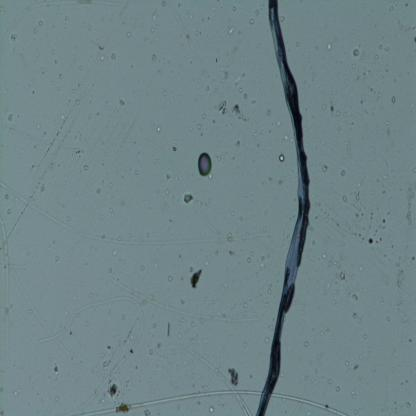Air bubble: (195, 151, 213, 179)
Background material: (394, 266, 410, 308), (404, 178, 414, 230), (230, 102, 249, 125), (107, 380, 123, 400), (189, 268, 204, 288), (218, 96, 229, 116), (230, 364, 239, 387), (385, 128, 394, 150), (124, 326, 135, 344), (181, 191, 195, 205), (116, 402, 130, 414), (99, 357, 111, 371), (354, 190, 363, 208), (250, 130, 260, 146), (72, 147, 84, 156), (117, 95, 125, 107), (10, 388, 22, 396), (154, 122, 162, 134), (216, 152, 225, 162), (109, 247, 119, 256), (125, 378, 133, 388), (278, 152, 286, 162), (76, 96, 84, 106), (109, 50, 116, 61), (62, 214, 71, 222), (352, 311, 360, 320), (97, 43, 105, 52), (227, 27, 237, 34), (233, 139, 240, 149), (341, 270, 347, 281), (326, 40, 332, 51), (56, 128, 62, 139), (31, 26, 39, 34), (38, 66, 46, 74), (282, 132, 290, 140), (188, 124, 196, 132), (167, 321, 171, 337), (350, 294, 358, 302), (81, 164, 89, 172), (364, 68, 372, 76), (352, 48, 360, 56), (59, 112, 66, 121), (64, 309, 71, 318), (228, 232, 234, 242), (164, 170, 170, 180), (203, 294, 209, 304), (111, 206, 116, 218), (150, 54, 158, 61), (321, 165, 328, 173), (279, 14, 286, 22), (104, 99, 111, 107), (249, 17, 256, 25), (354, 180, 361, 188), (304, 374, 311, 382), (367, 236, 374, 244), (4, 208, 12, 215), (318, 350, 324, 359), (351, 391, 357, 400), (320, 251, 326, 260), (168, 146, 177, 152), (1, 88, 10, 94), (201, 111, 207, 120), (161, 88, 167, 97), (15, 226, 21, 235), (135, 169, 141, 178), (342, 194, 348, 203), (303, 341, 310, 348), (144, 409, 151, 416), (40, 184, 46, 192), (294, 40, 302, 46), (335, 108, 341, 116), (275, 117, 281, 125), (204, 84, 210, 92), (6, 114, 14, 120), (122, 17, 128, 25), (208, 172, 214, 180), (10, 34, 18, 40), (340, 170, 348, 176), (198, 27, 204, 35), (86, 23, 92, 31), (186, 32, 192, 40), (152, 158, 160, 164), (405, 401, 411, 409), (52, 238, 58, 246), (241, 70, 247, 78), (228, 250, 236, 256), (178, 318, 184, 326), (188, 322, 196, 328), (148, 348, 154, 356), (96, 188, 102, 196), (108, 266, 113, 275), (31, 77, 36, 86), (330, 104, 335, 113), (88, 111, 93, 120), (224, 71, 229, 80), (379, 296, 384, 305), (220, 63, 225, 72), (100, 232, 107, 238), (126, 32, 132, 39), (54, 368, 61, 374), (310, 253, 316, 260), (309, 67, 316, 73), (332, 300, 339, 306), (334, 386, 341, 392), (352, 363, 359, 369), (221, 282, 228, 288), (380, 34, 386, 41), (116, 234, 121, 242), (27, 306, 32, 314), (313, 212, 318, 220), (382, 174, 387, 182), (209, 404, 214, 412), (390, 242, 395, 250), (151, 321, 156, 329), (278, 177, 283, 185), (359, 238, 363, 247), (354, 212, 360, 218), (198, 121, 202, 130), (267, 109, 273, 115), (153, 11, 157, 20), (398, 24, 404, 30), (403, 1, 409, 7), (410, 255, 416, 261), (256, 105, 262, 111), (318, 330, 324, 336), (316, 305, 322, 311), (266, 288, 272, 294), (326, 261, 332, 267), (352, 409, 358, 415), (334, 289, 340, 295), (384, 120, 390, 126), (350, 63, 356, 69), (378, 44, 384, 50), (378, 104, 384, 110), (384, 46, 390, 52), (301, 302, 306, 309), (100, 55, 105, 62), (302, 76, 307, 83), (382, 251, 387, 258), (396, 260, 401, 267), (321, 103, 326, 110), (106, 343, 111, 350), (121, 313, 126, 320), (212, 86, 217, 93), (95, 111, 102, 116), (189, 266, 194, 273), (344, 139, 349, 146), (0, 409, 5, 416), (229, 209, 234, 216), (370, 212, 374, 220), (345, 78, 349, 86), (59, 71, 63, 79), (42, 130, 46, 138), (214, 249, 218, 257), (399, 125, 403, 133), (50, 165, 56, 170), (345, 132, 350, 138), (38, 20, 43, 26), (45, 251, 51, 256), (304, 126, 310, 131), (247, 258, 252, 264), (265, 337, 270, 343), (204, 260, 209, 266), (53, 59, 58, 65), (363, 334, 368, 340), (30, 164, 36, 169), (243, 302, 248, 308), (324, 327, 330, 332), (221, 404, 226, 410), (389, 5, 394, 11), (360, 54, 365, 60), (242, 94, 247, 100), (386, 315, 390, 322), (368, 346, 372, 353), (178, 252, 182, 259), (5, 193, 9, 200), (104, 150, 108, 157), (376, 175, 380, 182), (176, 403, 180, 410), (344, 361, 348, 368), (172, 348, 176, 355), (165, 188, 169, 195), (391, 96, 395, 103), (88, 292, 93, 297), (360, 379, 365, 384), (27, 375, 32, 380), (221, 314, 226, 319), (107, 182, 112, 187), (211, 300, 216, 305), (370, 189, 375, 194), (36, 51, 40, 57), (280, 371, 284, 377), (362, 109, 366, 115), (360, 4, 366, 8), (394, 0, 398, 6), (372, 366, 376, 372), (0, 386, 4, 392), (78, 338, 82, 344), (337, 126, 341, 132), (238, 88, 242, 94), (162, 2, 168, 6), (54, 396, 58, 402), (45, 395, 49, 401), (4, 16, 8, 22), (122, 258, 126, 264), (256, 271, 260, 277), (195, 22, 199, 28), (360, 98, 364, 104), (177, 334, 181, 340), (100, 160, 104, 166), (261, 254, 265, 260), (134, 364, 138, 370), (28, 400, 32, 406), (130, 348, 134, 354), (168, 275, 172, 281), (232, 6, 236, 12), (260, 264, 264, 270), (331, 334, 335, 340), (359, 318, 363, 324), (352, 231, 358, 235), (358, 232, 362, 238), (413, 35, 416, 42), (175, 137, 178, 144), (232, 154, 235, 161), (66, 14, 69, 21), (375, 53, 378, 60), (330, 90, 334, 95), (200, 132, 204, 137), (312, 240, 316, 245), (360, 211, 364, 216), (394, 399, 398, 404), (42, 113, 46, 118), (346, 290, 350, 295), (36, 409, 40, 414), (335, 221, 339, 226), (324, 24, 328, 29), (78, 65, 82, 70), (99, 214, 103, 219), (36, 391, 40, 396), (58, 322, 62, 327), (178, 64, 182, 69), (56, 86, 60, 91), (347, 123, 351, 128), (192, 383, 196, 388), (184, 370, 188, 375), (148, 377, 152, 382), (146, 361, 150, 366), (107, 309, 111, 314), (128, 232, 132, 237), (243, 311, 247, 316), (156, 36, 160, 41), (204, 386, 209, 390), (243, 342, 247, 347), (386, 67, 390, 72), (356, 76, 360, 81), (312, 77, 316, 82), (52, 80, 55, 86), (56, 256, 59, 262), (182, 298, 185, 304), (379, 236, 382, 242), (158, 342, 161, 348), (413, 166, 416, 172), (378, 92, 381, 98), (343, 158, 346, 164), (240, 217, 244, 221), (100, 353, 104, 357), (383, 190, 387, 194), (70, 332, 74, 336), (186, 10, 190, 14), (298, 358, 302, 362), (166, 376, 170, 380), (395, 80, 399, 84), (270, 326, 274, 330), (86, 323, 90, 327), (36, 125, 40, 129), (408, 338, 412, 342), (72, 89, 76, 93), (250, 252, 254, 256), (176, 365, 180, 369), (250, 308, 254, 312), (190, 14, 193, 19), (12, 125, 15, 130), (65, 23, 68, 28), (222, 77, 225, 82), (151, 27, 154, 32), (215, 57, 218, 62), (207, 15, 210, 20), (302, 310, 305, 315), (313, 84, 316, 89), (405, 378, 408, 383), (370, 87, 373, 92), (360, 265, 363, 270), (119, 341, 122, 346), (254, 311, 257, 316), (191, 373, 194, 378), (223, 82, 226, 87), (217, 240, 220, 245), (78, 82, 80, 88), (376, 240, 379, 244), (34, 145, 37, 149), (196, 29, 198, 35), (328, 380, 332, 383), (180, 45, 183, 49), (31, 90, 34, 94), (351, 30, 354, 34), (217, 143, 220, 147), (249, 374, 252, 378), (396, 132, 399, 136), (227, 87, 230, 91), (76, 313, 79, 317), (268, 254, 271, 258), (401, 380, 403, 386), (344, 112, 347, 116), (52, 50, 55, 54), (369, 224, 371, 230), (392, 367, 395, 371), (358, 208, 362, 211), (386, 212, 390, 215), (382, 226, 386, 229), (383, 219, 386, 223), (335, 260, 337, 265), (363, 236, 365, 241), (375, 23, 377, 28), (218, 400, 220, 405), (310, 360, 312, 365), (376, 228, 378, 232), (178, 3, 180, 7), (213, 120, 215, 124), (154, 372, 156, 376), (256, 11, 258, 15), (50, 357, 52, 361), (270, 130, 272, 134), (352, 122, 354, 125), (395, 350, 396, 353)
Cotton: (254, 0, 310, 416)
Glass filter fibre: (1, 182, 266, 252), (37, 294, 146, 366), (108, 275, 260, 325), (171, 341, 252, 416), (82, 383, 263, 416), (0, 0, 119, 46), (272, 391, 349, 416), (0, 217, 11, 317), (6, 262, 28, 270)
